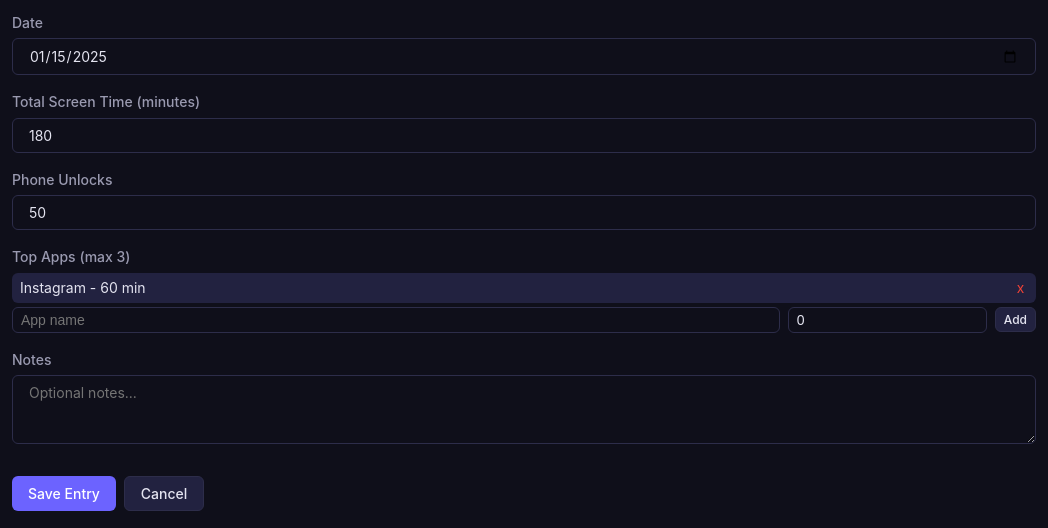
Test case: DigitalForm › supports removing apps
Click the button with class "remove-btn" at [1020, 288], box [1013, 280, 1028, 296]
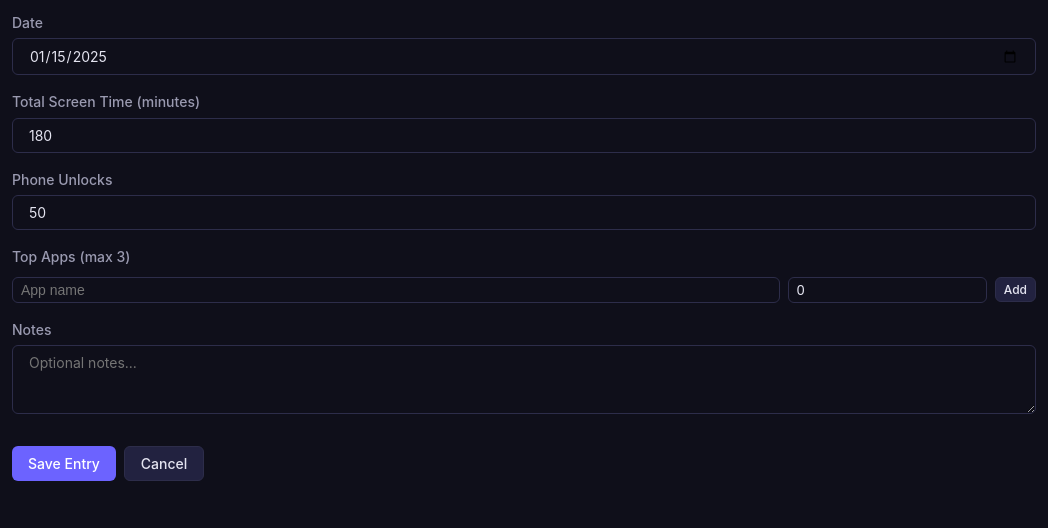
Expected: the text "Instagram" is gone
